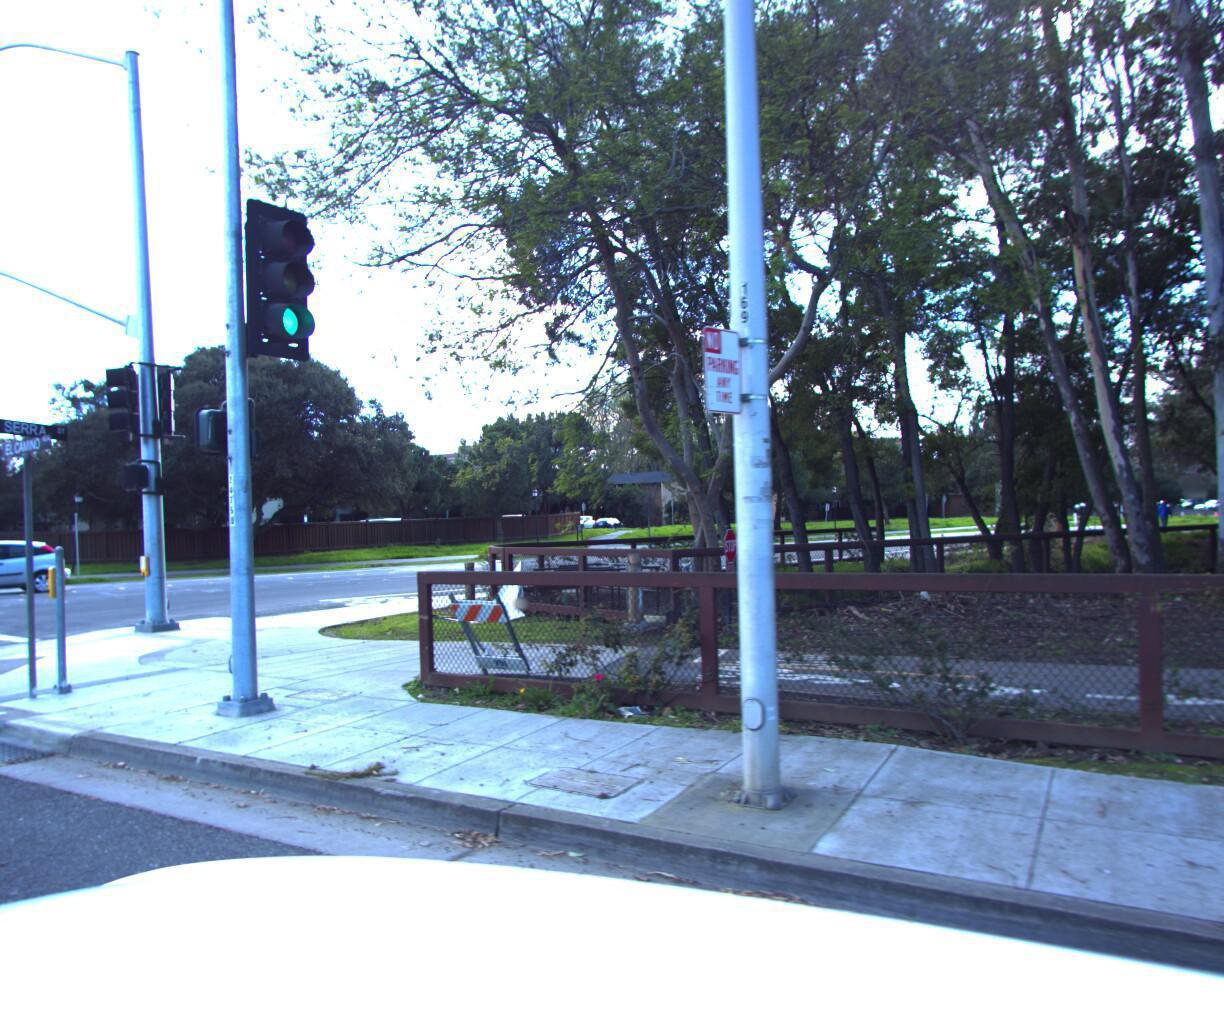car: (0, 533, 77, 599)
